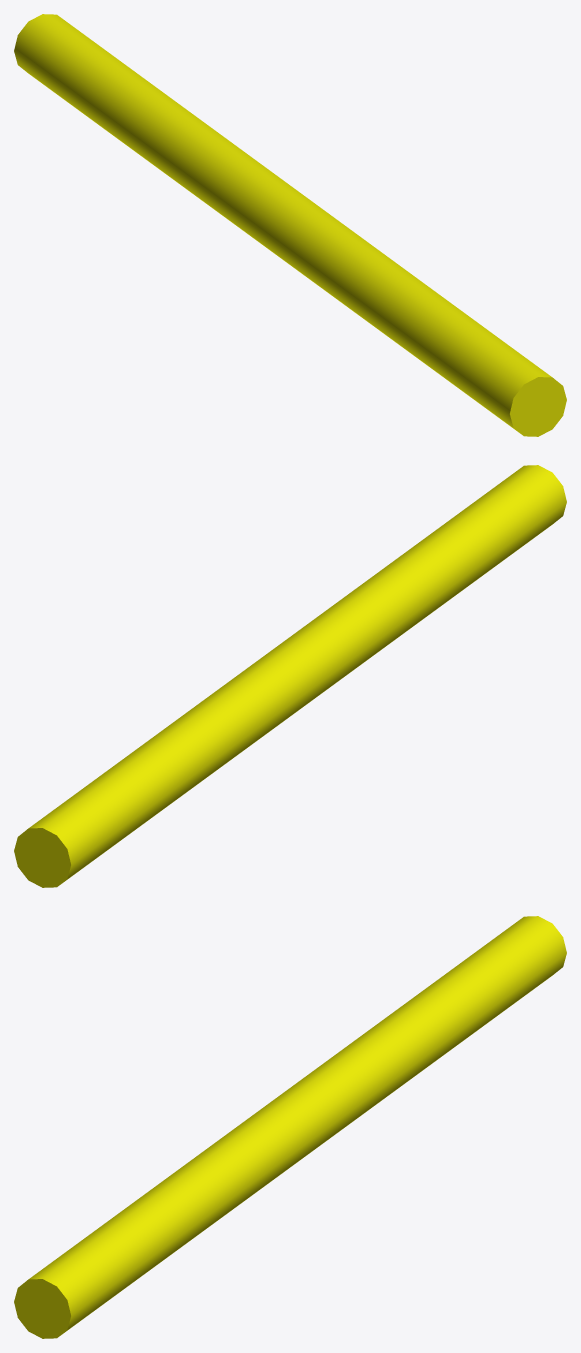
Rendered from pipe_main.dae.
3 renders of one model, top to bottom at view 1: azimuth 30°, elevation 25°; view 2: azimuth 150°, elevation 25°; view 3: azimuth 330°, elevation 25°, orthographic.
Parts seen in each view (by area): view 1: NurbsPath; view 2: NurbsPath; view 3: NurbsPath.
Boxes of the visible parts, x1=… form: NurbsPath: x1=14, y1=14, x2=566, y2=436; NurbsPath: x1=14, y1=465, x2=566, y2=887; NurbsPath: x1=14, y1=916, x2=566, y2=1338.
Size of the model in its own units: 0.2 by 3 by 0.2.
